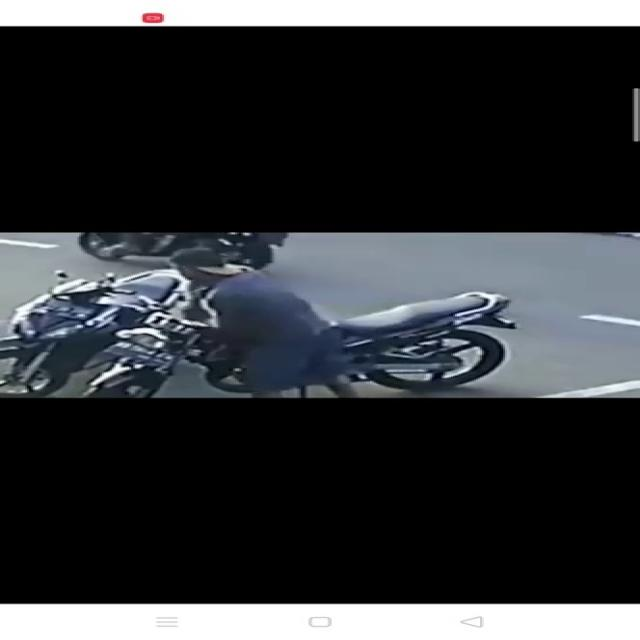pencurian: (99, 247, 526, 390)
